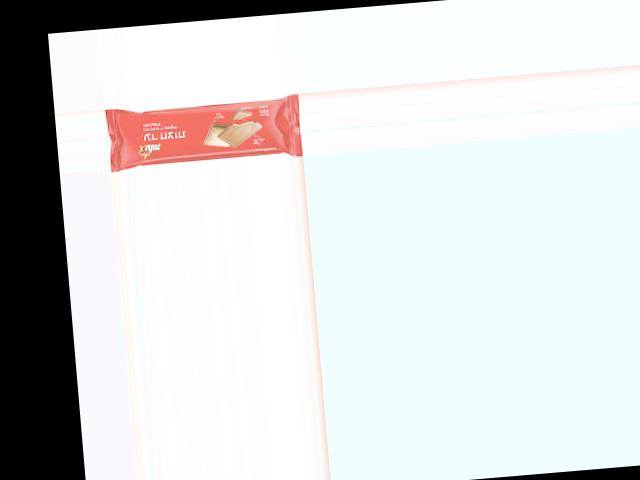chocolate: (110, 92, 301, 171)
